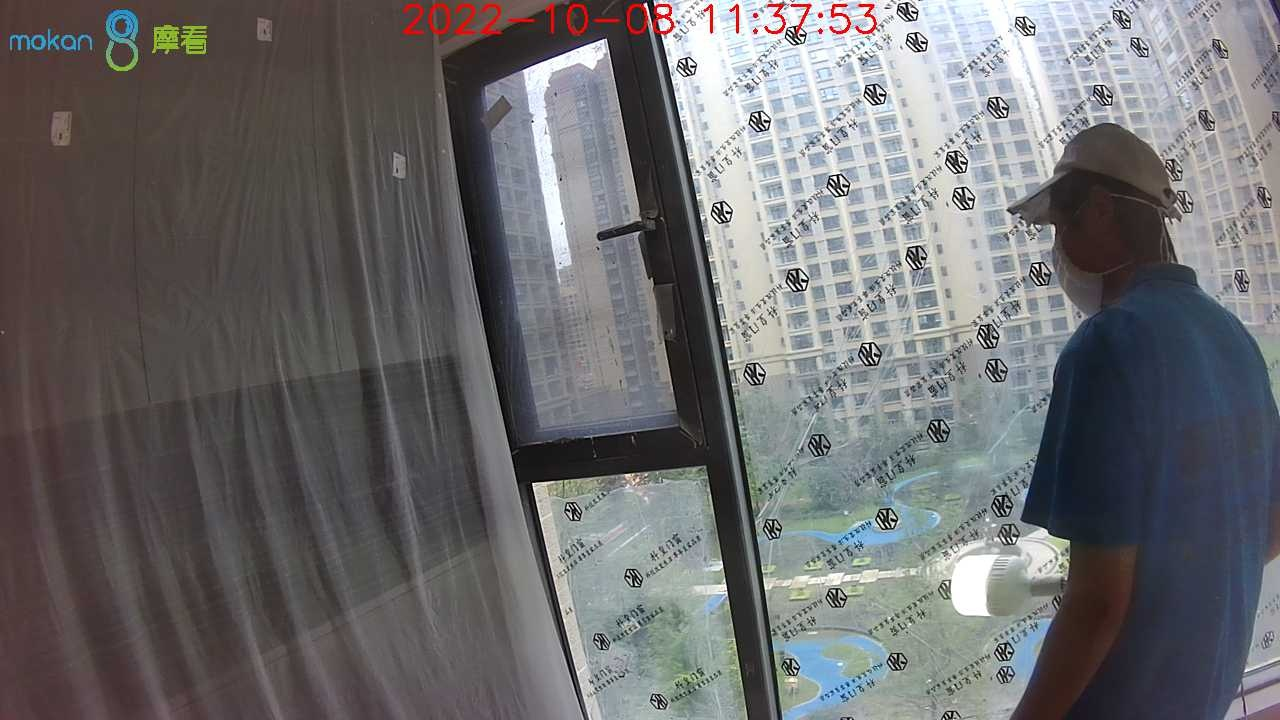people: (1004, 121, 1278, 720)
window: (441, 1, 1278, 720)
